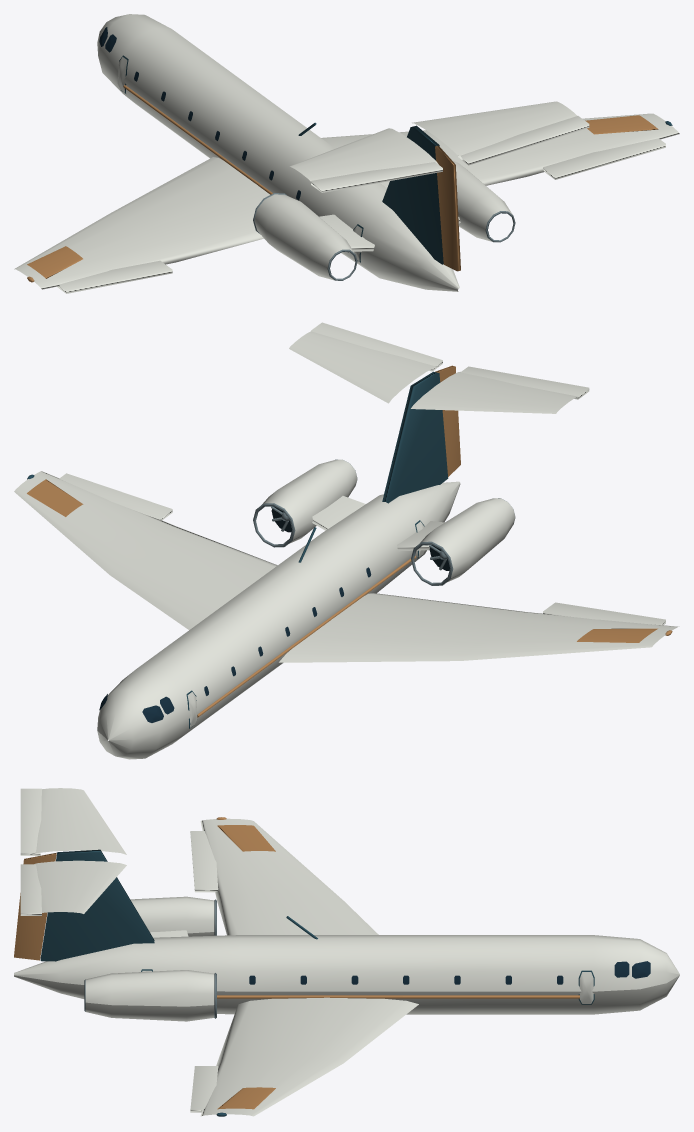
Rendered from player-meridian-mobile-v1.glb.
3 views of the same model, one above another, from view 1: azimuth 30°, elevation 25°; view 2: azimuth 150°, elevation 25°; view 3: azimuth 270°, elevation 25° (orthographic). The views are drawn at different scales.
Parts seen in each view (by area): view 1: hull, trim, accent, rudder, elevator-right, aileron-right, elevator-left, aileron-left, metal, cabin; view 2: hull, trim, accent, elevator-right, aileron-right, elevator-left, metal, aileron-left, rudder, cabin; view 3: hull, trim, accent, rudder, elevator-left, aileron-left, elevator-right, cabin, aileron-right.
Part boxes in pixels (x1=…): hull: x1=14, y1=14, x2=679, y2=291; trim: x1=119, y1=55, x2=443, y2=264; accent: x1=27, y1=85, x2=658, y2=282; rudder: x1=435, y1=145, x2=460, y2=271; elevator-right: x1=458, y1=116, x2=589, y2=165; aileron-right: x1=543, y1=138, x2=665, y2=179; elevator-left: x1=311, y1=162, x2=442, y2=192; aileron-left: x1=57, y1=260, x2=172, y2=293; metal: x1=253, y1=193, x2=515, y2=280; cabin: x1=99, y1=27, x2=300, y2=200; hull: x1=14, y1=331, x2=679, y2=759; trim: x1=186, y1=371, x2=448, y2=728; accent: x1=27, y1=479, x2=672, y2=717; elevator-right: x1=311, y1=322, x2=442, y2=371; aileron-right: x1=59, y1=473, x2=172, y2=520; elevator-left: x1=460, y1=366, x2=589, y2=399; metal: x1=253, y1=459, x2=515, y2=585; aileron-left: x1=543, y1=602, x2=665, y2=625; rudder: x1=435, y1=365, x2=460, y2=476; cabin: x1=99, y1=567, x2=371, y2=722; hull: x1=14, y1=788, x2=679, y2=1116; trim: x1=40, y1=849, x2=594, y2=1004; accent: x1=216, y1=817, x2=579, y2=1109; rudder: x1=14, y1=852, x2=56, y2=960; elevator-left: x1=20, y1=788, x2=41, y2=855; aileron-left: x1=190, y1=831, x2=218, y2=892; elevator-right: x1=20, y1=864, x2=41, y2=915; cabin: x1=249, y1=961, x2=650, y2=984; aileron-right: x1=190, y1=1066, x2=218, y2=1112.
Bounding box in the file's own units: 21.16 × 5.34 × 20.
